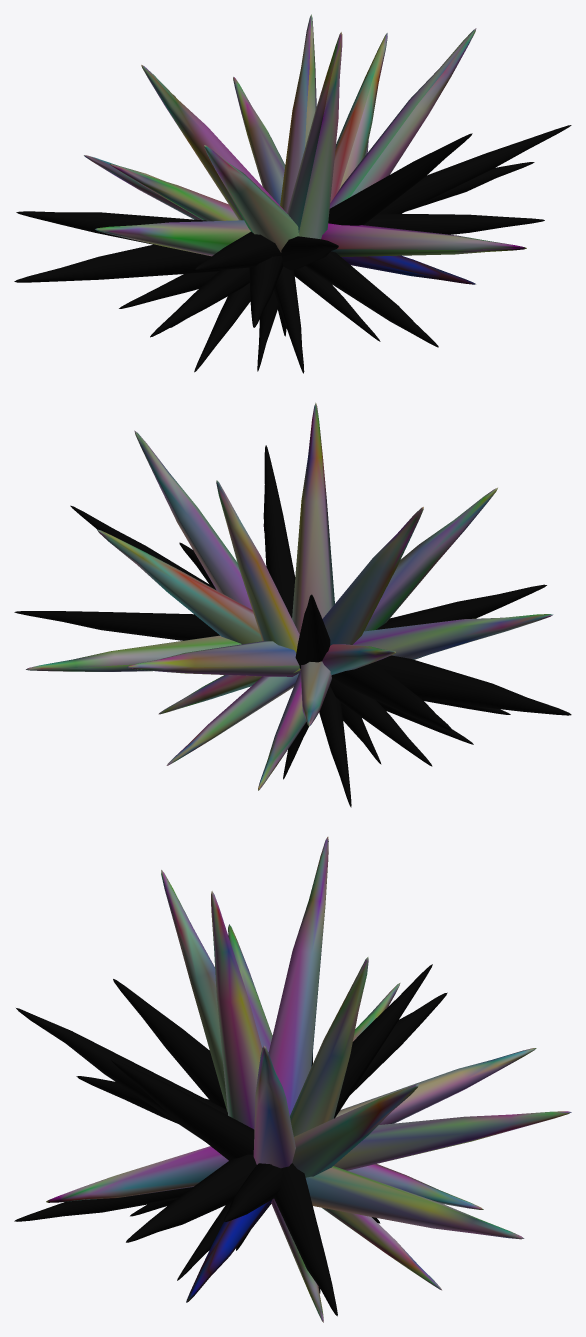
File: Items_Spikes_01.gltf
3 views of the same model, one above another, from view 1: azimuth 30°, elevation 25°; view 2: azimuth 150°, elevation 25°; view 3: azimuth 270°, elevation 25° (orthographic). The views are drawn at different scales.
Visible parts, largest first — view 1: Items_Spikes_01; view 2: Items_Spikes_01; view 3: Items_Spikes_01.
Boxes of the visible parts, left/top/right/bottom form: Items_Spikes_01: left=14, top=14, right=571, bottom=373; Items_Spikes_01: left=14, top=402, right=571, bottom=807; Items_Spikes_01: left=14, top=837, right=571, bottom=1322.
Size of the model in its own units: 1.56 by 0.937 by 1.15.
